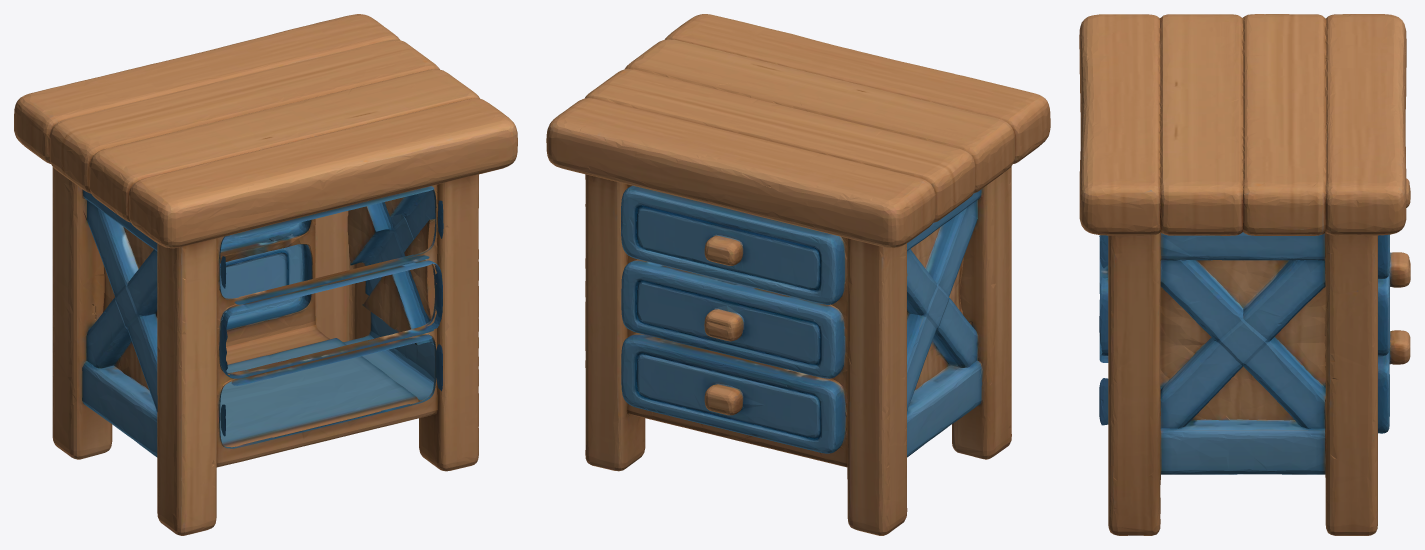
The model's file is body.glb.
The picture shows the model from 3 angles, left to right: view 1: azimuth 30°, elevation 25°; view 2: azimuth 150°, elevation 25°; view 3: azimuth 270°, elevation 25°; orthographic projection. The views are drawn at different scales.
Visible parts, largest first — view 1: source_surface_0; view 2: source_surface_0; view 3: source_surface_0.
Boxes of the visible parts, box(x1,y1,x2,y2) form: source_surface_0: box(14, 14, 517, 535); source_surface_0: box(546, 14, 1050, 535); source_surface_0: box(1079, 14, 1410, 535).
Size of the model in its own units: 0.5912 by 0.55 by 0.4553.
1 material, 1 textured.
